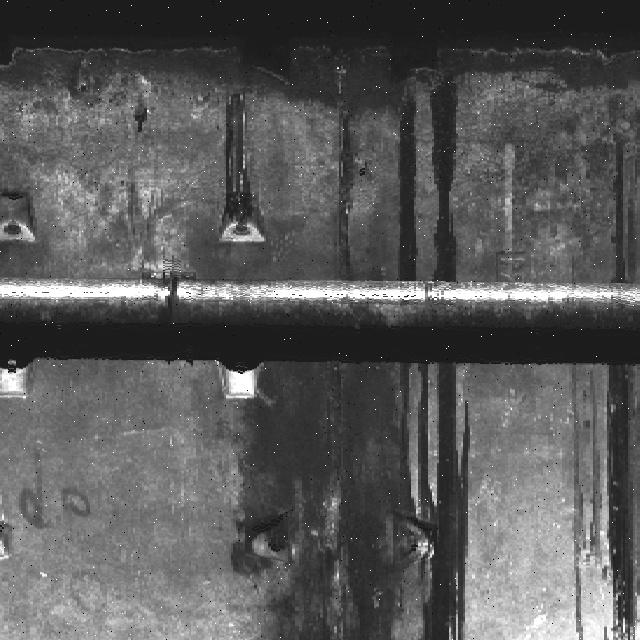leakage: (1, 0, 640, 104), (227, 360, 412, 639), (567, 362, 640, 638), (417, 359, 488, 639), (431, 71, 475, 279), (393, 83, 425, 279), (218, 88, 262, 227), (332, 112, 359, 281), (609, 134, 640, 277)
